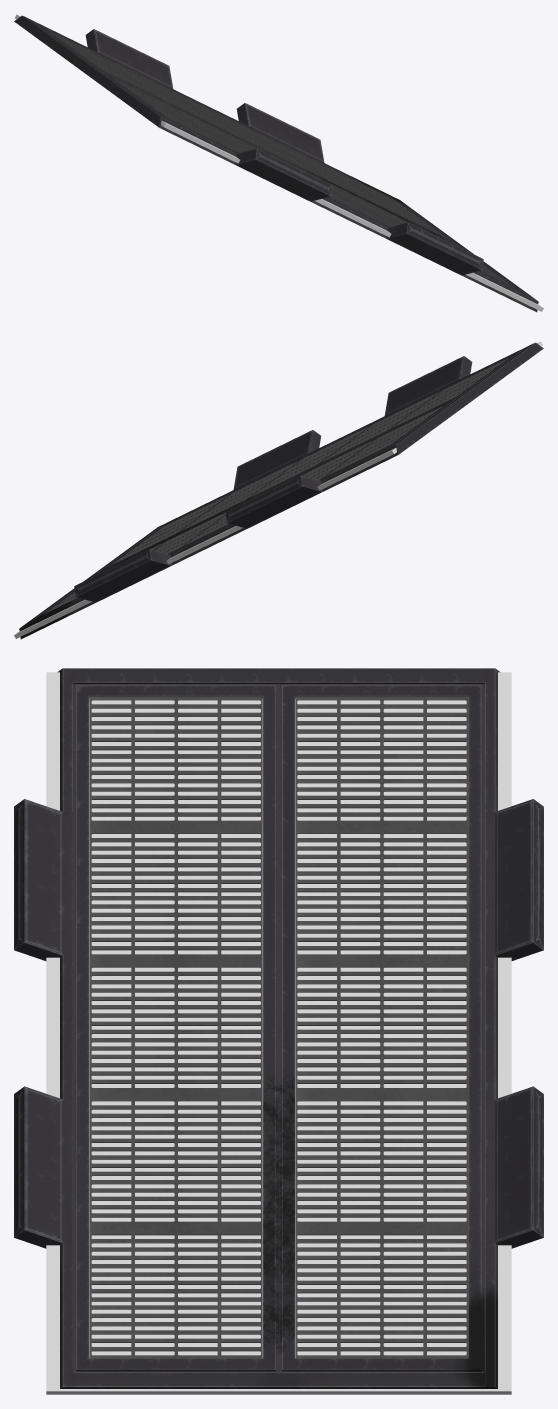
The model's file is SlopeScaffold35.fbx.
3 renders of one model, top to bottom at view 1: azimuth 30°, elevation 25°; view 2: azimuth 150°, elevation 25°; view 3: azimuth 270°, elevation 25°, orthographic. The views are drawn at different scales.
Visible parts, largest first — view 1: Box013, Plane013, Coll; view 2: Box013, Plane013, Coll; view 3: Plane013, Coll, Box013.
Part boxes in pixels (x1=…): Box013: x1=14, y1=15, x2=538, y2=312; Plane013: x1=47, y1=30, x2=513, y2=287; Coll: x1=15, y1=14, x2=543, y2=311; Box013: x1=19, y1=342, x2=543, y2=639; Plane013: x1=44, y1=357, x2=510, y2=614; Coll: x1=14, y1=341, x2=542, y2=638; Plane013: x1=89, y1=697, x2=468, y2=1358; Coll: x1=46, y1=672, x2=511, y2=1394; Box013: x1=14, y1=668, x2=543, y2=1388.
Bounding box in the file's own units: 2.07 × 1.47 × 1.6.
